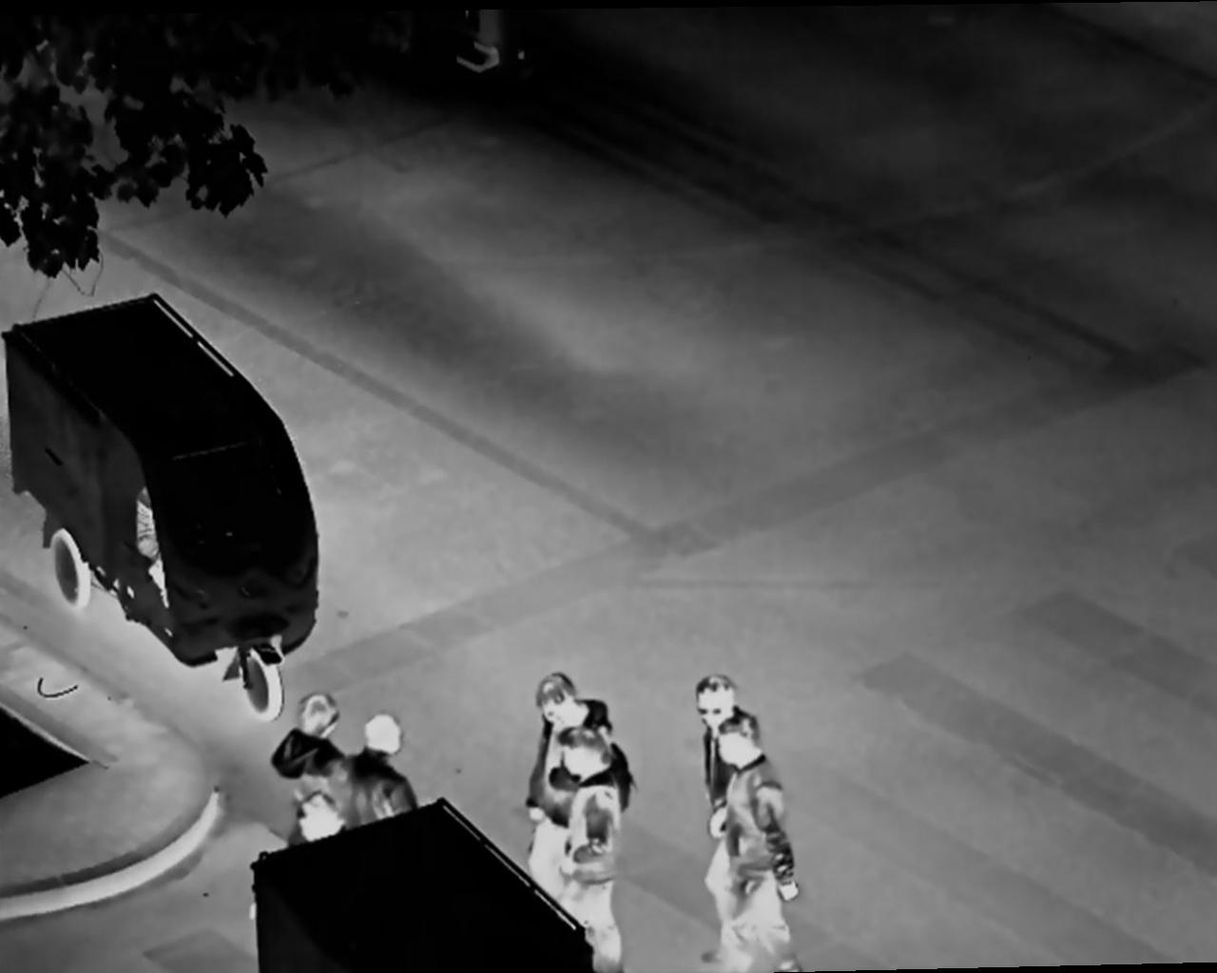person: (717, 722, 814, 973), (561, 734, 634, 973), (538, 674, 624, 815), (276, 694, 346, 818), (341, 711, 413, 821), (699, 663, 739, 841), (288, 792, 346, 854)
